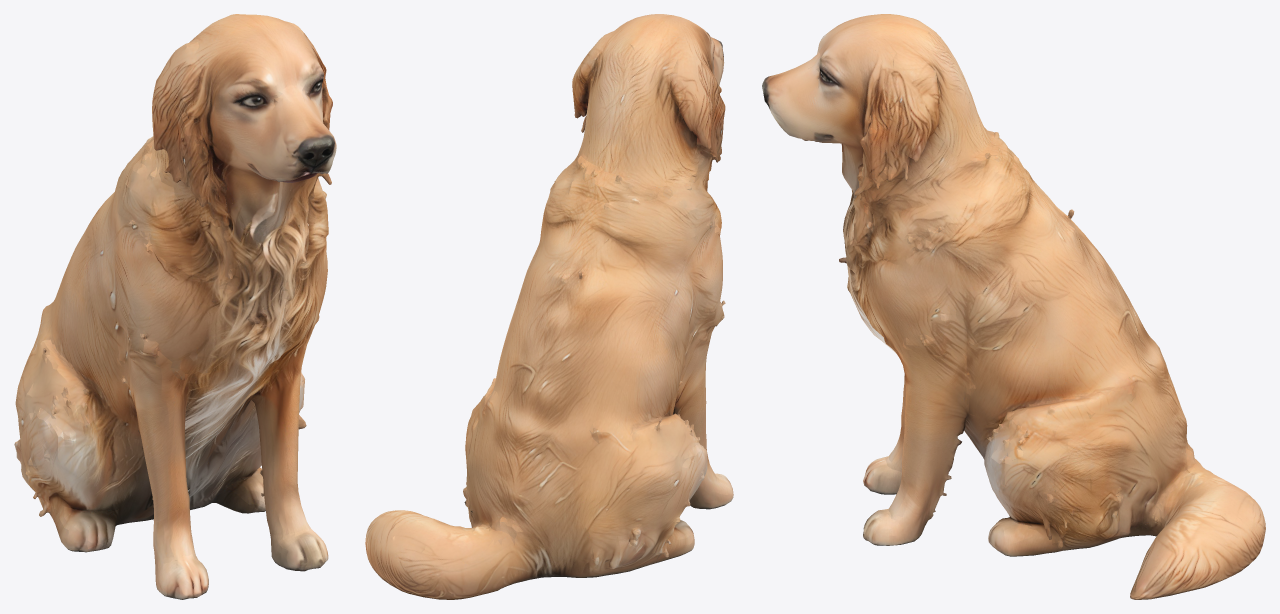
Rendered from golden-retriever.glb.
3 views of the same model, side by side, from view 1: azimuth 30°, elevation 25°; view 2: azimuth 150°, elevation 25°; view 3: azimuth 270°, elevation 25° (orthographic). The views are drawn at different scales.
Parts seen in each view (by area): view 1: Mesh; view 2: Mesh; view 3: Mesh.
Boxes of the visible parts, x1=… form: Mesh: x1=14, y1=14, x2=336, y2=599; Mesh: x1=365, y1=14, x2=733, y2=599; Mesh: x1=762, y1=14, x2=1265, y2=599.
Size of the model in its own units: 1.18 by 1.91 by 1.76.
1 material, 1 textured.
